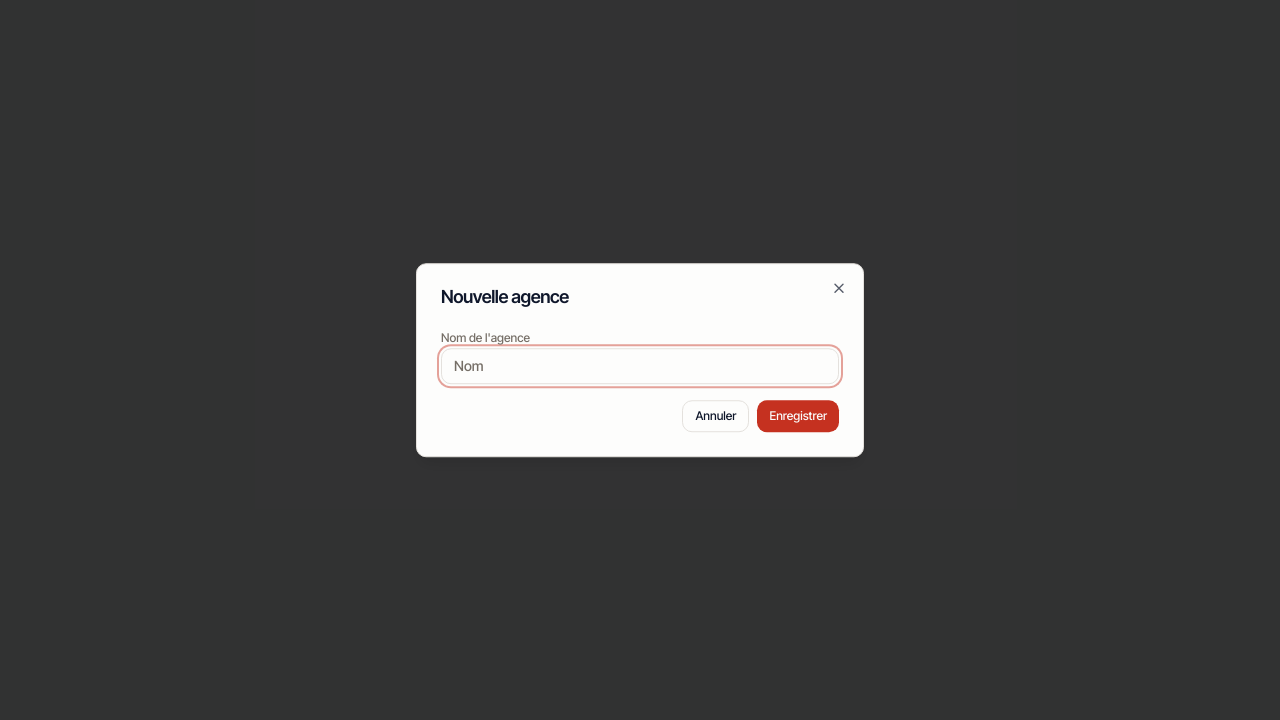
Test: AgencyFormDialog › shows a root error when submit fails
The image size is (1280, 720).
Type "Agence Test" into the field labelled "Nom de l'agence" at (640, 366), box [441, 348, 839, 384]
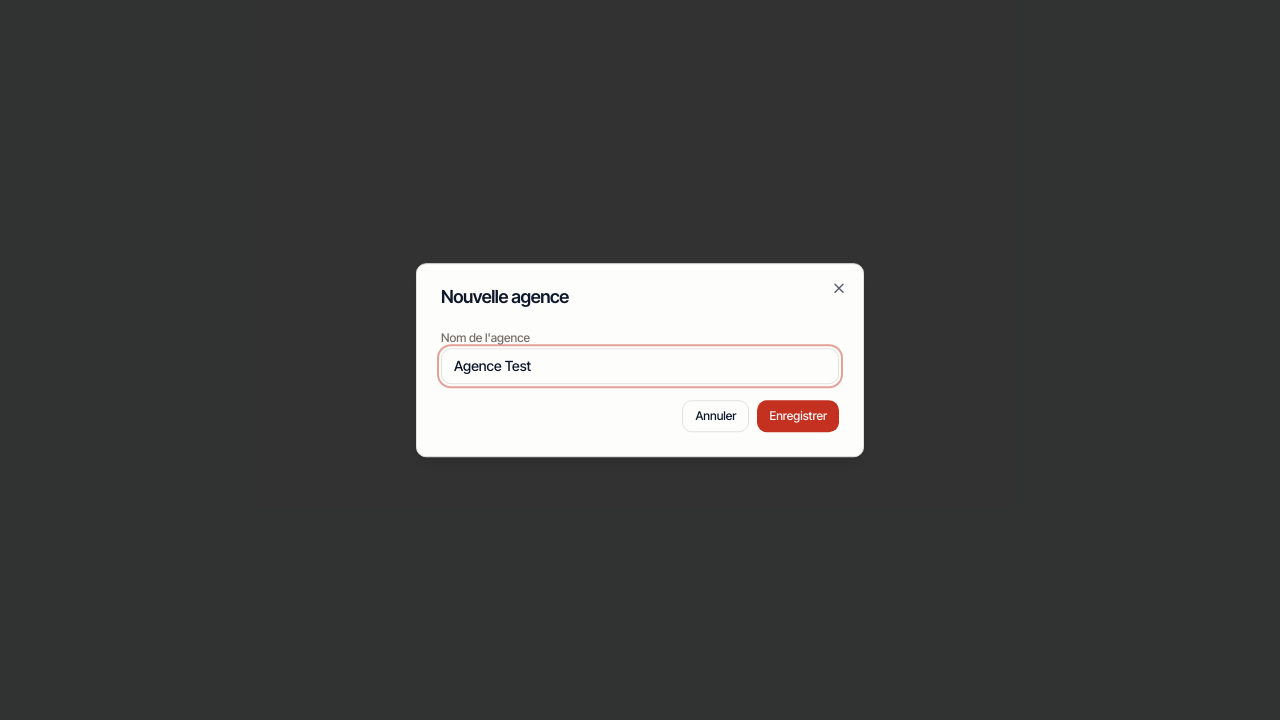
Click the button "Enregistrer" at (798, 416), box [758, 400, 839, 432]
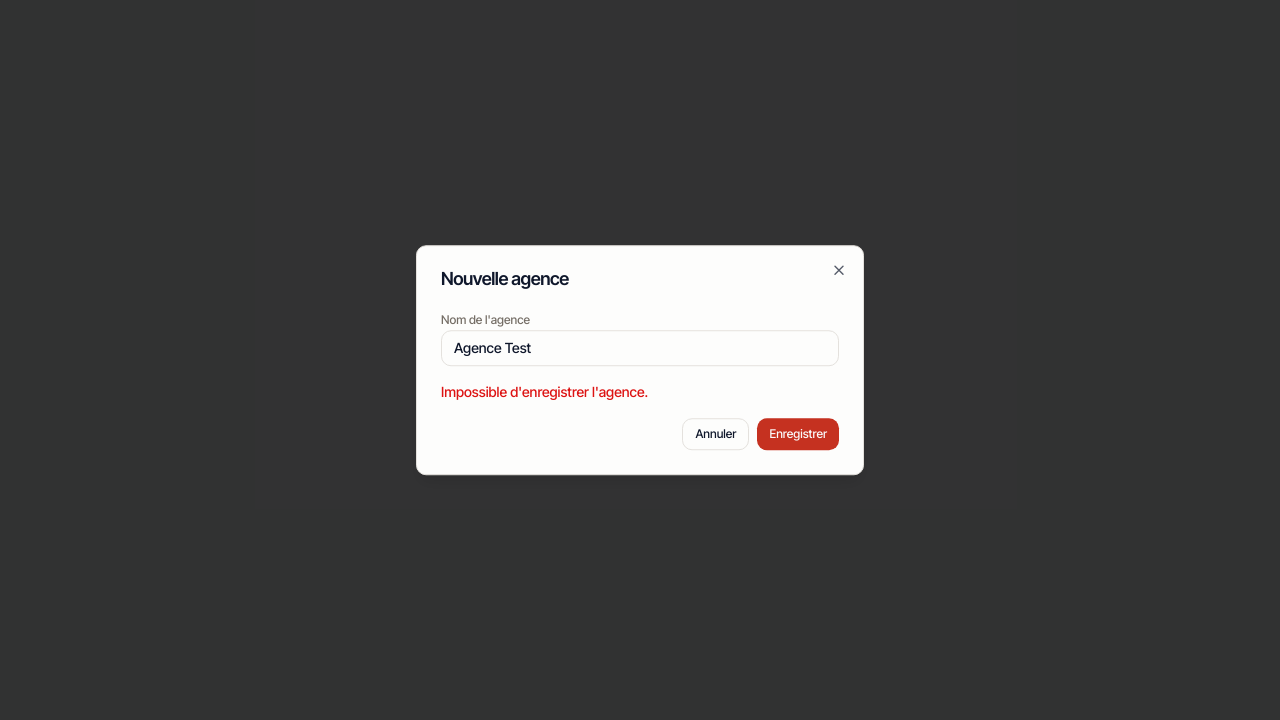
Now the text "Impossible d'enregistrer l'agence." is shown, box [441, 383, 648, 400]
